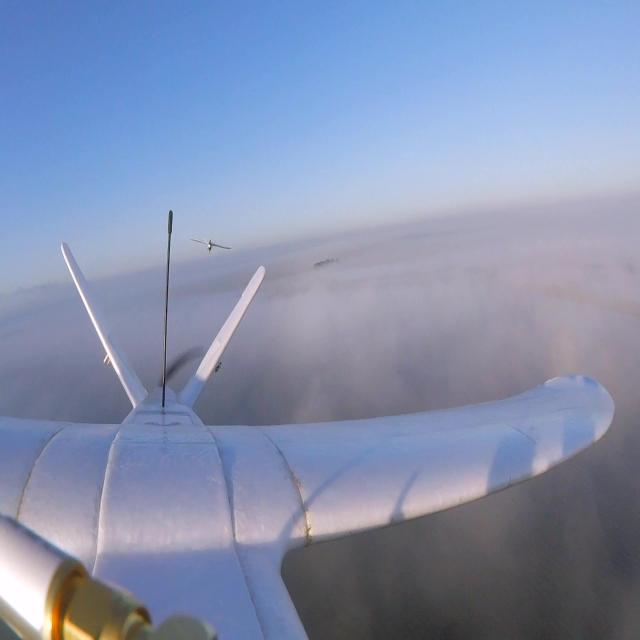iha: (190, 232, 232, 254)
